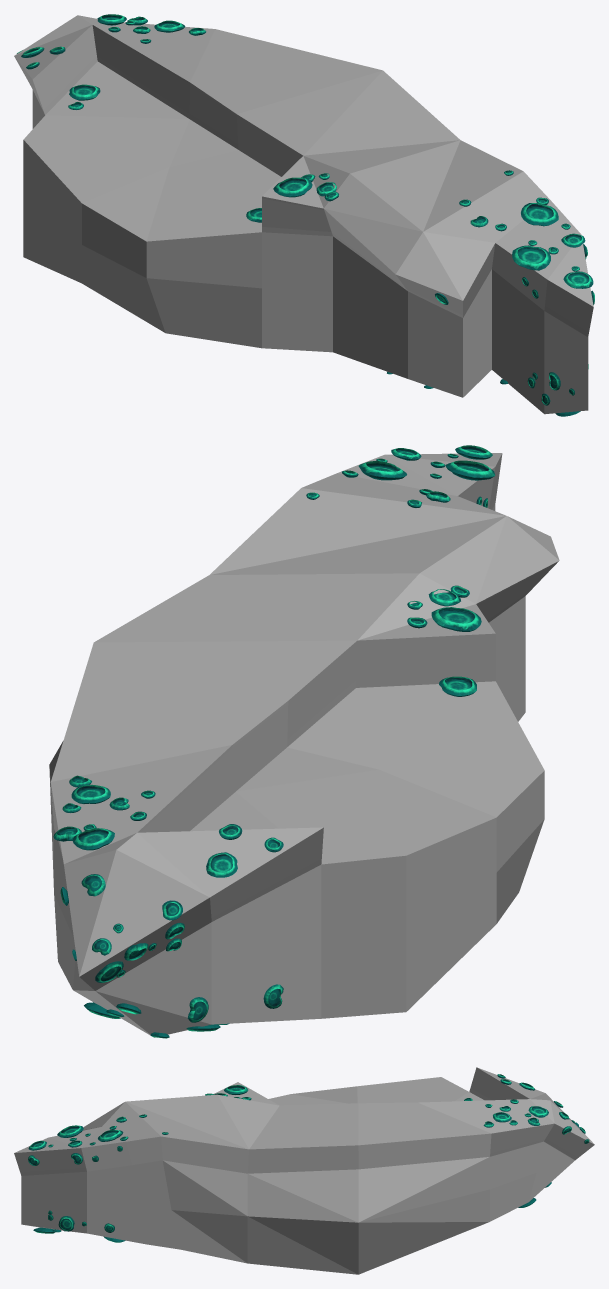
Rendered from stein3_rework.fbx.
The picture shows the model from 3 angles, top to bottom: view 1: azimuth 30°, elevation 25°; view 2: azimuth 150°, elevation 25°; view 3: azimuth 270°, elevation 25°; orthographic projection. The views are drawn at different scales.
Parts seen in each view (by area): view 1: stein3, polySurface17; view 2: stein3, polySurface17; view 3: stein3, polySurface17.
Part boxes in pixels (<box>): stein3: <box>14,15,593,414</box>; polySurface17: <box>17,14,594,416</box>; stein3: <box>49,453,559,1037</box>; polySurface17: <box>53,445,495,1038</box>; stein3: <box>14,1067,594,1274</box>; polySurface17: <box>28,1074,589,1242</box>.
Bounding box in the file's own units: 823 × 482 × 1857.
